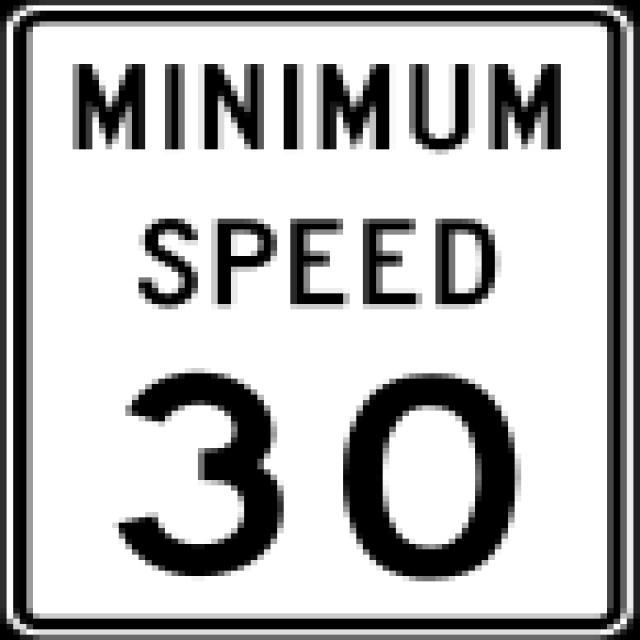Speed Limit -30-: (113, 370, 526, 580)
